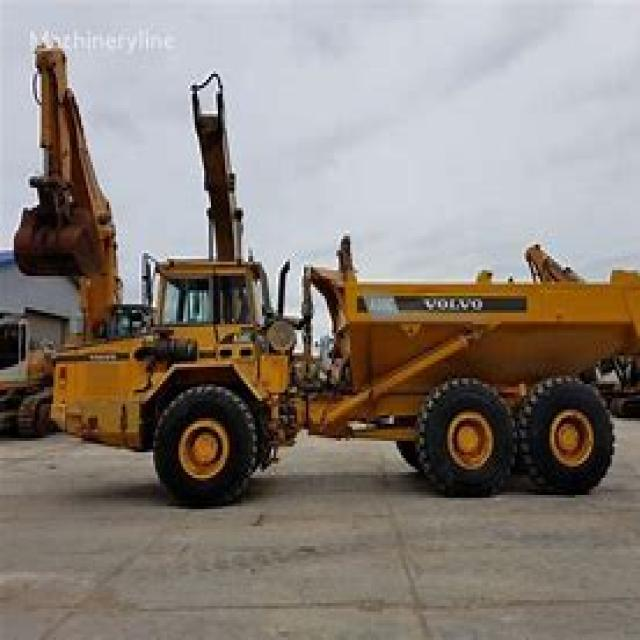dump_truck: (51, 230, 638, 512)
